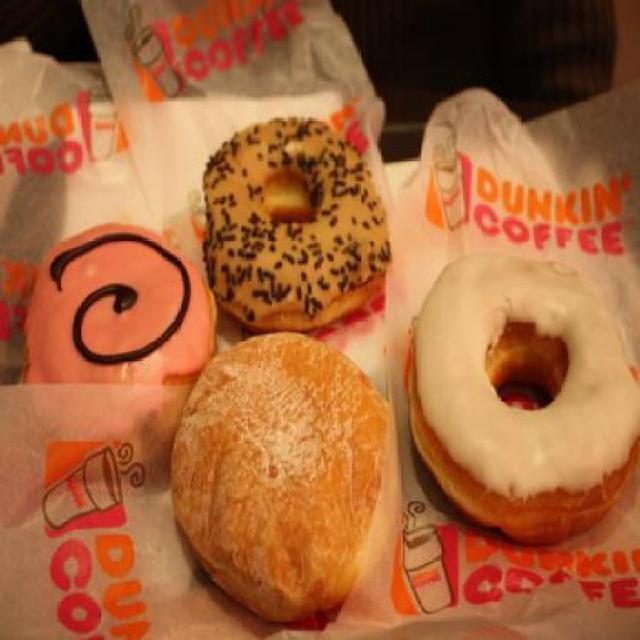Donuts: (26, 111, 640, 638)
